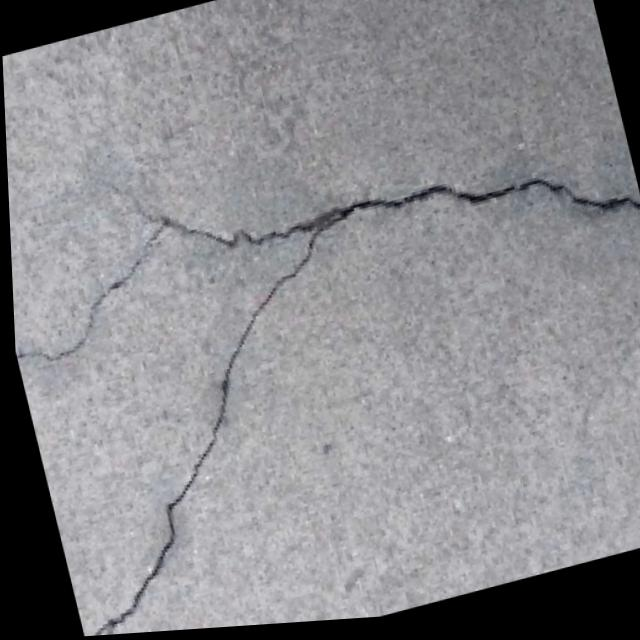Crack: (4, 80, 640, 396), (7, 191, 431, 640)
